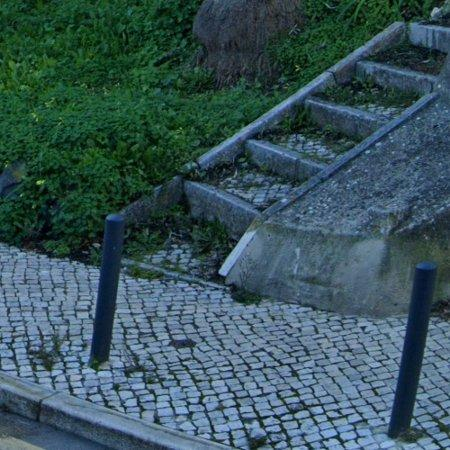stairs: (144, 25, 450, 282)
